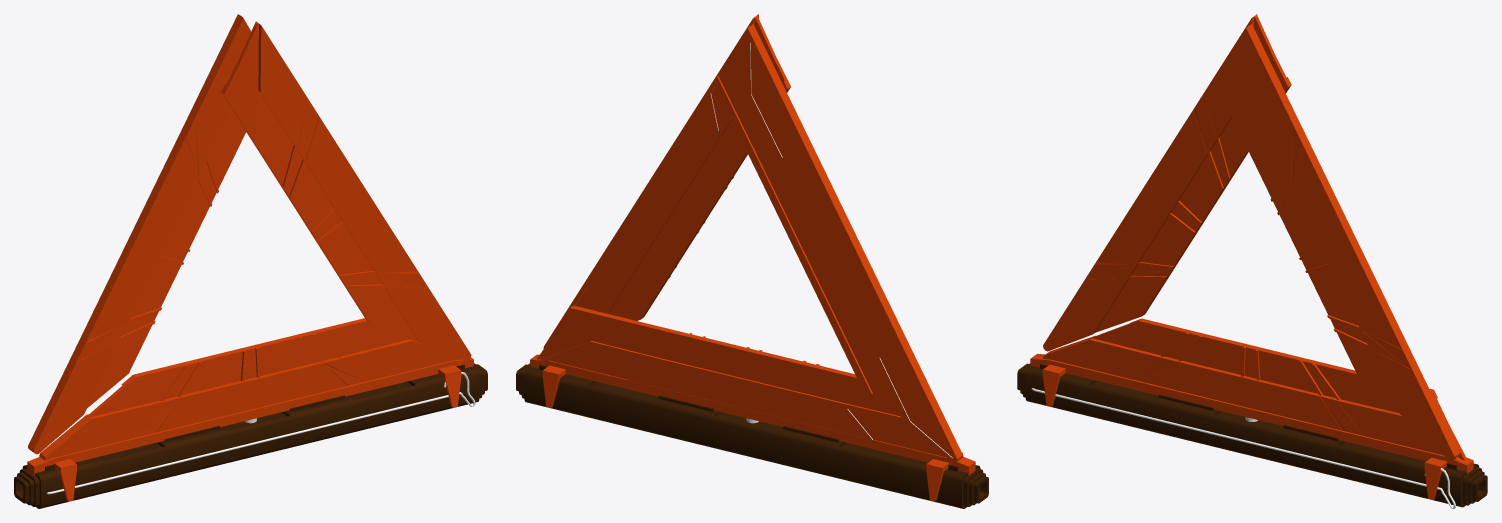
File: 车辆三角架.glb
3 renders of one model, left to right at view 1: azimuth 30°, elevation 25°; view 2: azimuth 150°, elevation 25°; view 3: azimuth 330°, elevation 25°, orthographic.
Parts seen in each view (by area): view 1: 车辆三角架; view 2: 车辆三角架; view 3: 车辆三角架.
Part boxes in pixels (x1,y1,x2,y2): 车辆三角架: (14,14,487,508); 车辆三角架: (516,14,988,508); 车辆三角架: (1017,14,1487,508).
Size of the model in its own units: 0.4607 by 0.4112 by 0.043.
